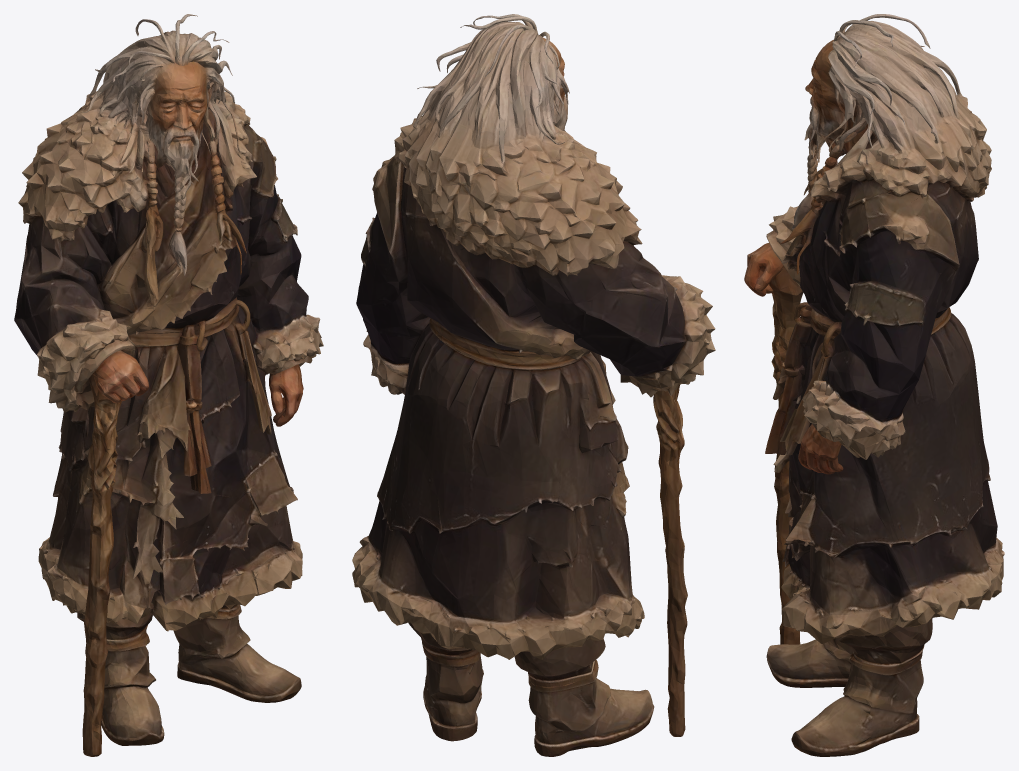
The model's file is chirha.glb.
The picture shows the model from 3 angles, left to right: view 1: azimuth 30°, elevation 25°; view 2: azimuth 150°, elevation 25°; view 3: azimuth 270°, elevation 25°; orthographic projection. The views are drawn at different scales.
Parts seen in each view (by area): view 1: chirha; view 2: chirha; view 3: chirha.
Boxes of the visible parts, x1,y1,x2,y2 form: chirha: [14, 14, 323, 756]; chirha: [352, 14, 715, 756]; chirha: [744, 14, 1004, 756].
Bounding box in the file's own units: 0.8798 × 1.9 × 0.6451.
1 material, 1 textured.
